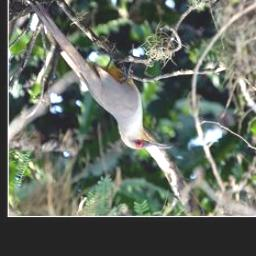Cuckoo: (25, 0, 175, 152)
